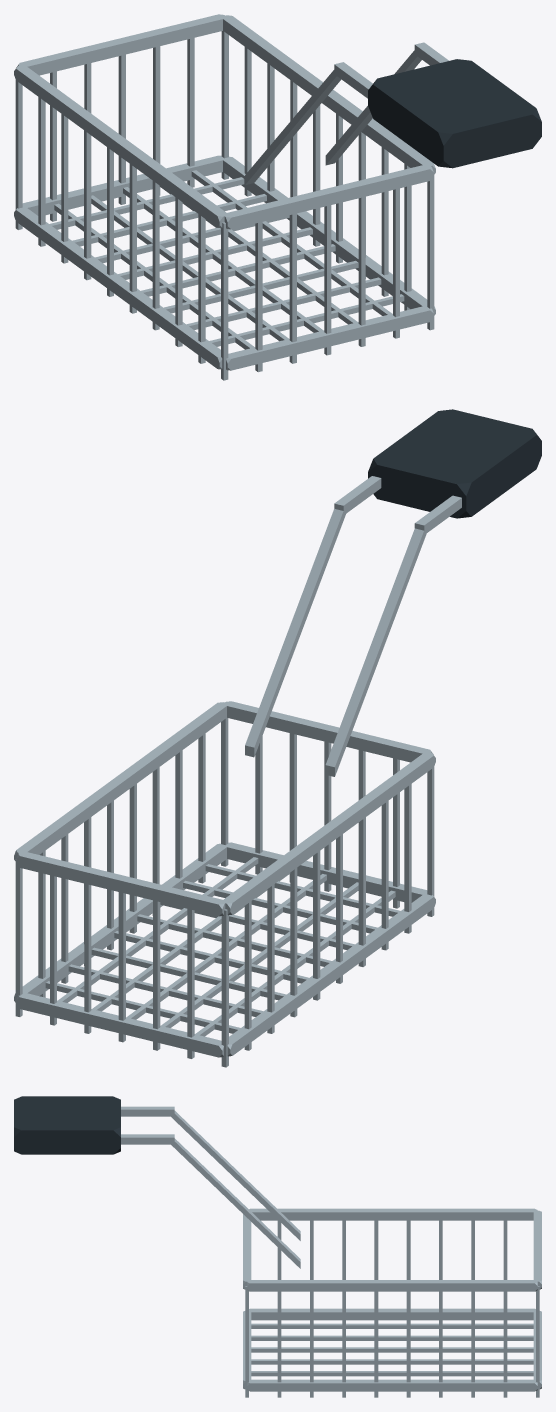
Rendered from FryBasket_Empty.glb.
3 views of the same model, one above another, from view 1: azimuth 30°, elevation 25°; view 2: azimuth 150°, elevation 25°; view 3: azimuth 270°, elevation 25° (orthographic). The views are drawn at different scales.
Parts seen in each view (by area): view 1: FryBasket_Empty; view 2: FryBasket_Empty; view 3: FryBasket_Empty.
Boxes of the visible parts, box(x1,y1,x2,y2) form: FryBasket_Empty: box(14, 14, 541, 380); FryBasket_Empty: box(14, 409, 541, 1067); FryBasket_Empty: box(14, 1096, 541, 1397).
Size of the model in its own units: 0.231 by 0.3575 by 0.6905.
